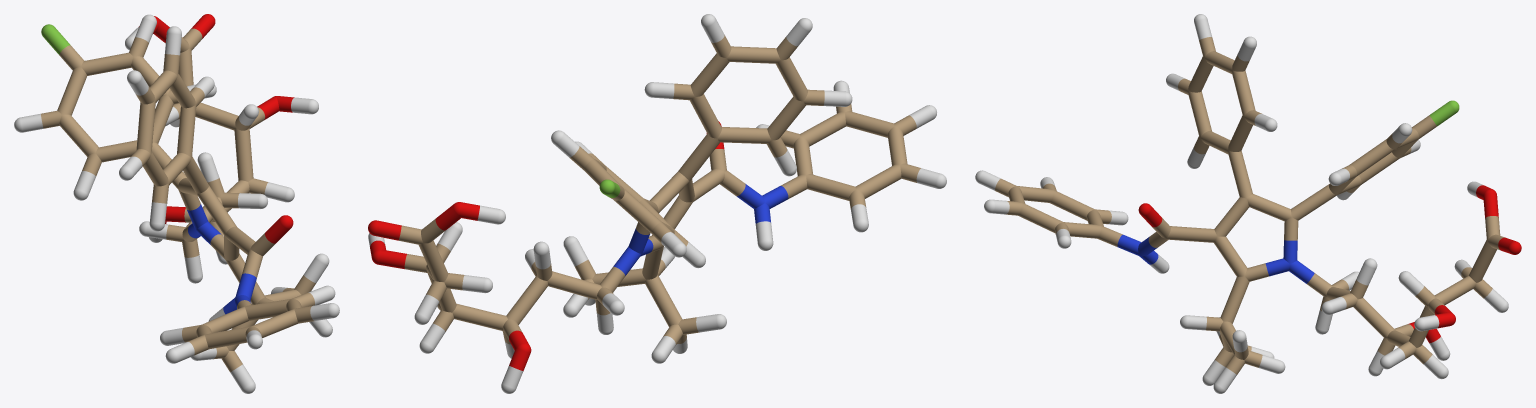
The model's file is atorvastatin.glb.
3 views of the same model, side by side, from view 1: azimuth 30°, elevation 25°; view 2: azimuth 150°, elevation 25°; view 3: azimuth 270°, elevation 25° (orthographic). The views are drawn at different scales.
Parts seen in each view (by area): view 1: bonds, atoms; view 2: bonds, atoms; view 3: bonds, atoms.
Boxes of the visible parts, <box> form: bonds: <box>20,15,331,389</box>; atoms: <box>14,14,339,393</box>; bonds: <box>368,19,940,388</box>; atoms: <box>368,14,946,393</box>; bonds: <box>979,19,1515,390</box>; atoms: <box>975,14,1521,393</box>.
Size of the model in its own units: 10.79 by 10.4 by 15.8.
